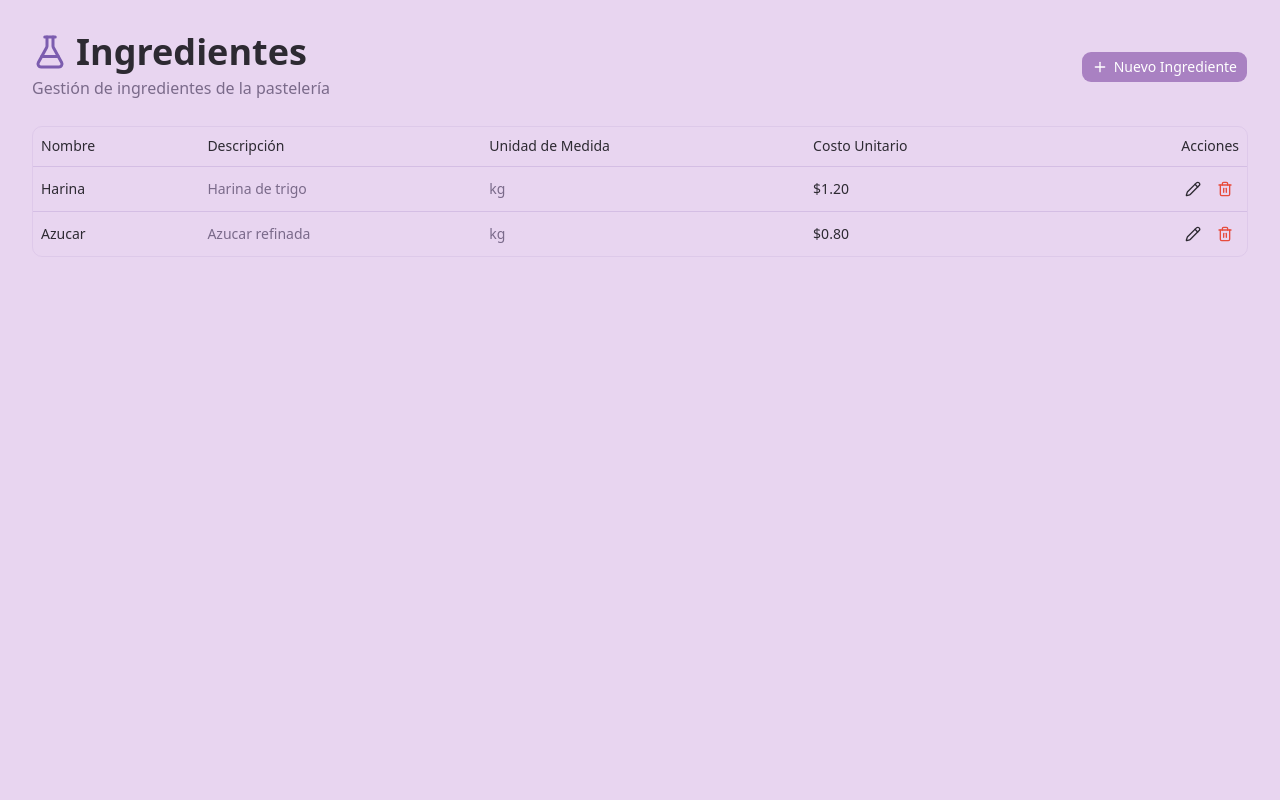
Test: Ingredientes Component › should show validation error when nombre is empty on edit
The width and height of the screenshot is (1280, 800).
Expected: the text "Harina" is shown, [33,167,199,212]
Click the button named "Editar" in the row of "Harina de trigo" at [1193, 189], box [1179,175,1207,203]
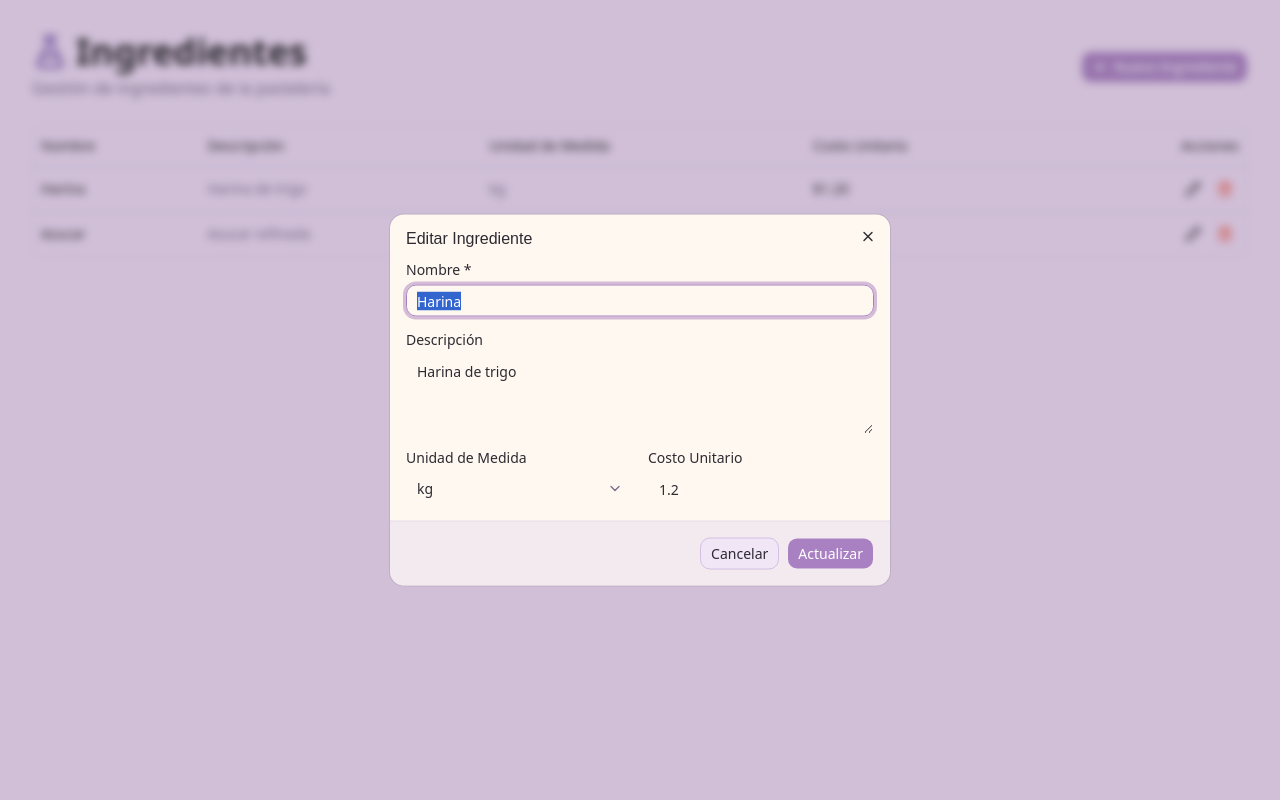
Result: the heading "Editar Ingrediente" is shown at [406,230,532,246]
Clear the field showing "Harina" at [640, 300], box [406,284,874,316]
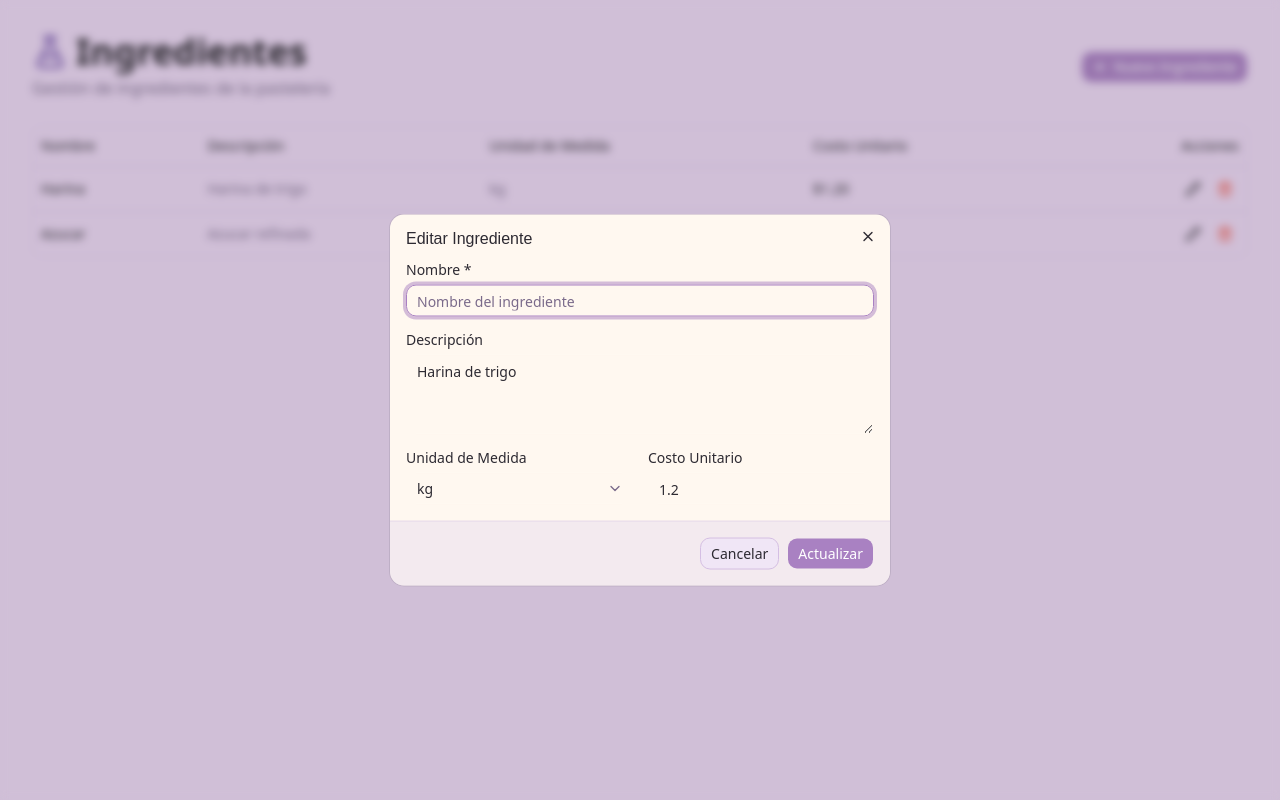
Click the button "Actualizar" at [831, 554], box [787,538,874,570]
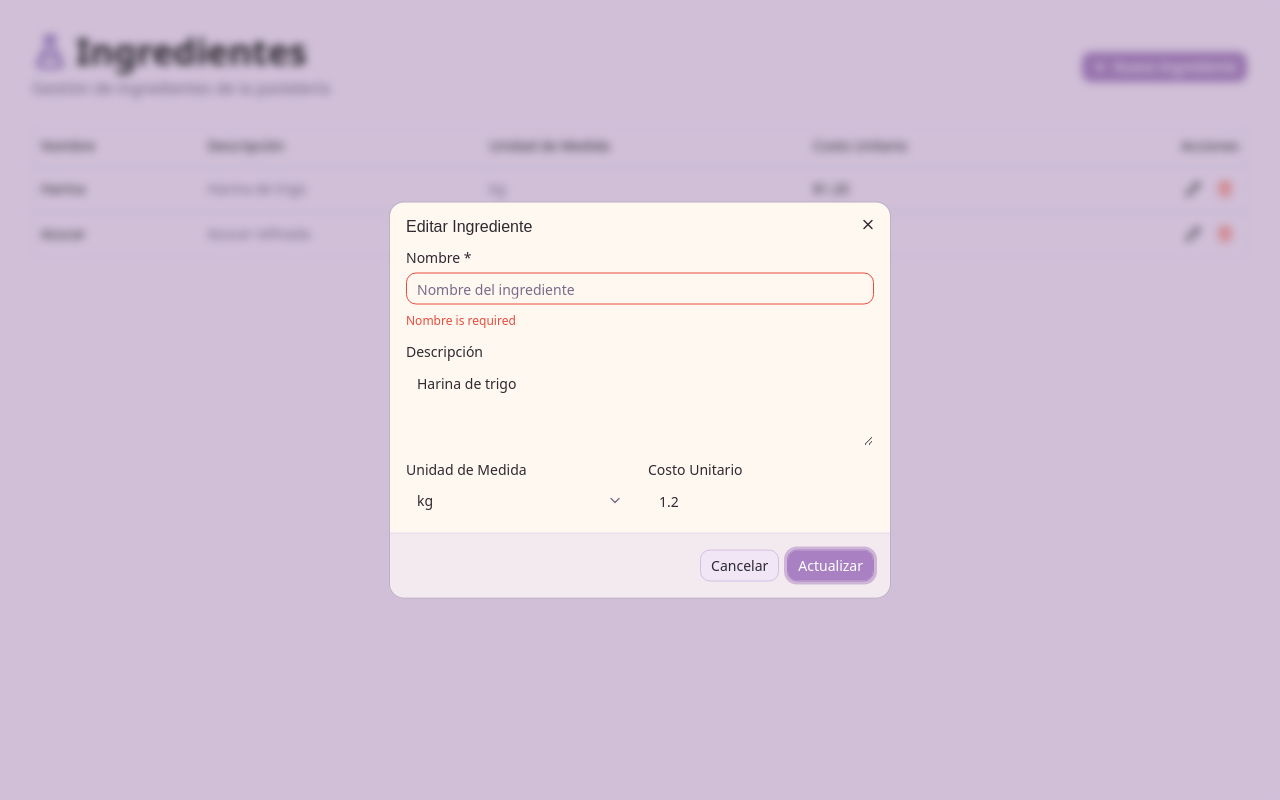
Result: the text "Nombre is required" is shown at [406,312,516,328]
